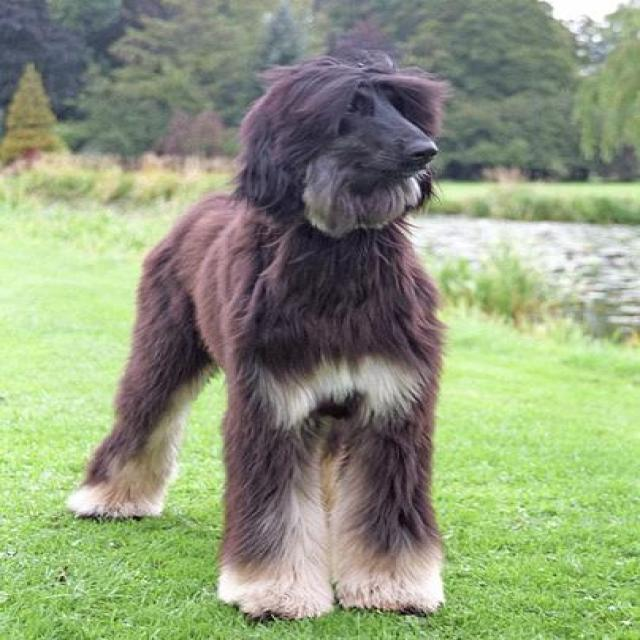afghan_hound: (73, 47, 451, 616)
